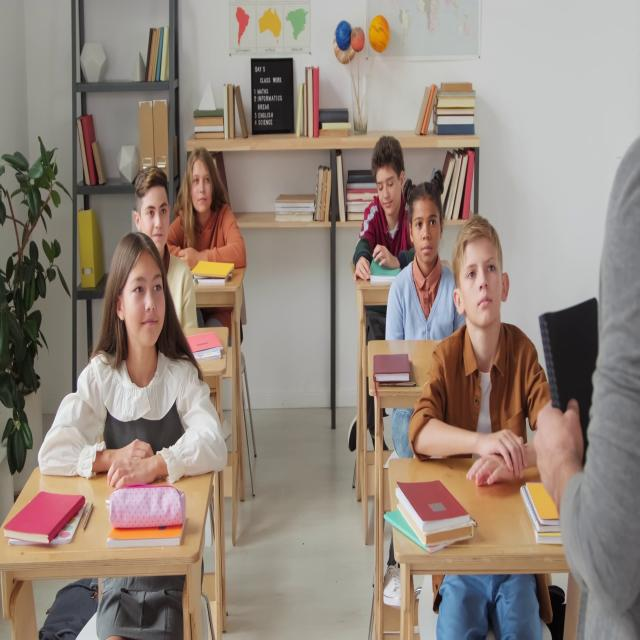listening: (406, 224, 556, 635), (41, 233, 230, 484), (172, 146, 251, 342), (384, 178, 463, 356), (136, 167, 202, 330)
reading: (353, 138, 416, 286)
